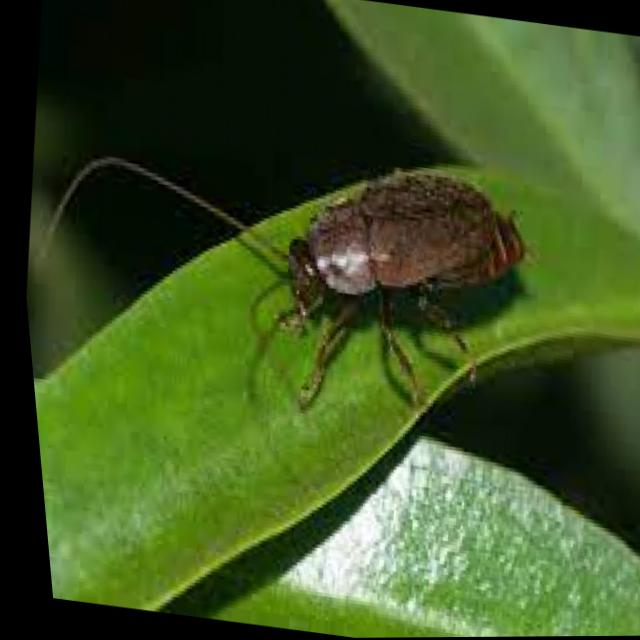Cockroach: (4, 51, 575, 469)
